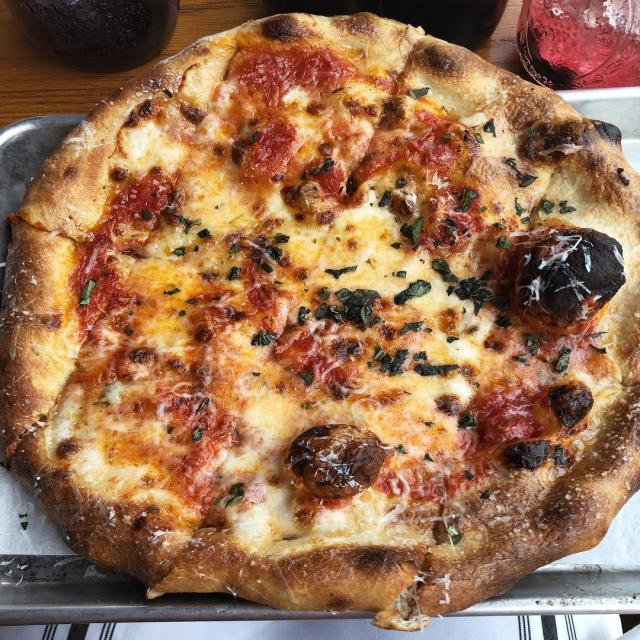basil: (431, 256, 500, 318), (290, 286, 386, 330), (512, 196, 580, 225), (385, 268, 435, 306), (364, 344, 412, 378), (414, 348, 462, 380), (388, 213, 428, 251), (208, 476, 248, 512), (168, 211, 212, 241), (503, 156, 537, 193), (508, 331, 542, 364), (448, 183, 484, 214), (451, 406, 484, 436), (469, 114, 499, 144), (489, 221, 517, 253), (550, 340, 575, 373), (582, 330, 612, 355), (245, 328, 280, 349), (77, 276, 99, 308), (441, 518, 466, 546), (164, 245, 204, 261), (323, 264, 358, 280), (371, 186, 395, 209), (263, 227, 291, 246), (297, 368, 319, 391), (406, 84, 433, 102), (222, 262, 242, 284), (193, 398, 214, 416), (186, 426, 208, 443), (224, 244, 246, 257)
pizza: (0, 9, 640, 634)
